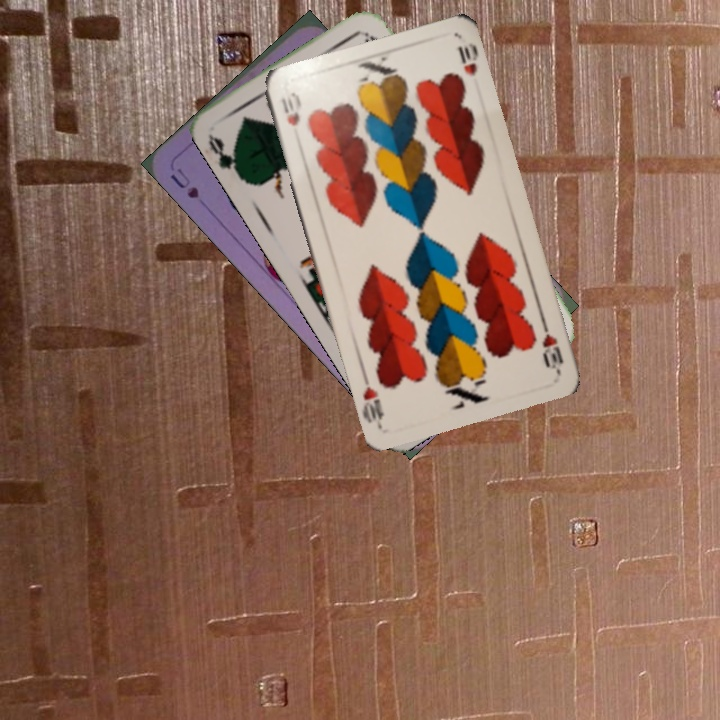GO: (204, 131, 244, 182)
H10: (537, 315, 566, 373), (277, 88, 303, 129)
SU: (166, 164, 202, 202)
